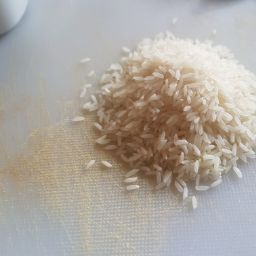Basmati rice: (43, 10, 256, 211)
